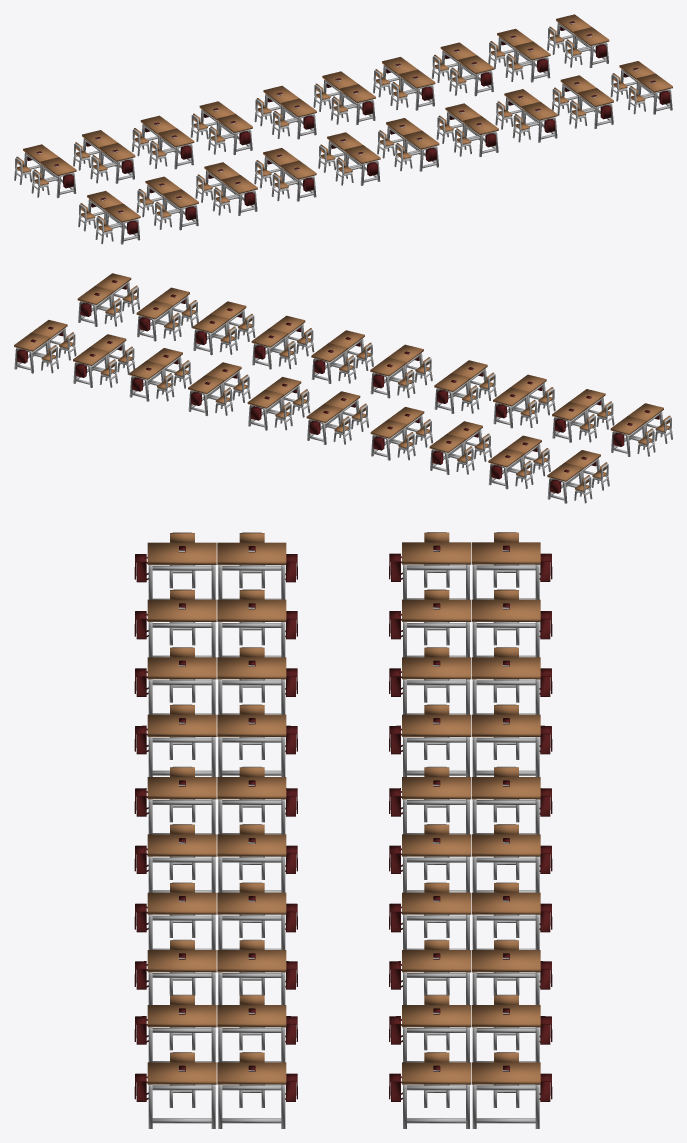
File: SchoolDeskAll.fbx
3 renders of one model, top to bottom at view 1: azimuth 30°, elevation 25°; view 2: azimuth 150°, elevation 25°; view 3: azimuth 270°, elevation 25°, orthographic. The views are drawn at different scales.
Visible parts, largest first — view 1: 평면.001; view 2: 평면.001; view 3: 평면.001.
Boxes of the visible parts, left/top/right/bottom form: 평면.001: left=14, top=14, right=672, bottom=244; 평면.001: left=14, top=273, right=672, bottom=503; 평면.001: left=134, top=532, right=552, bottom=1128.
Size of the model in its own units: 2199 by 93.52 by 703.
